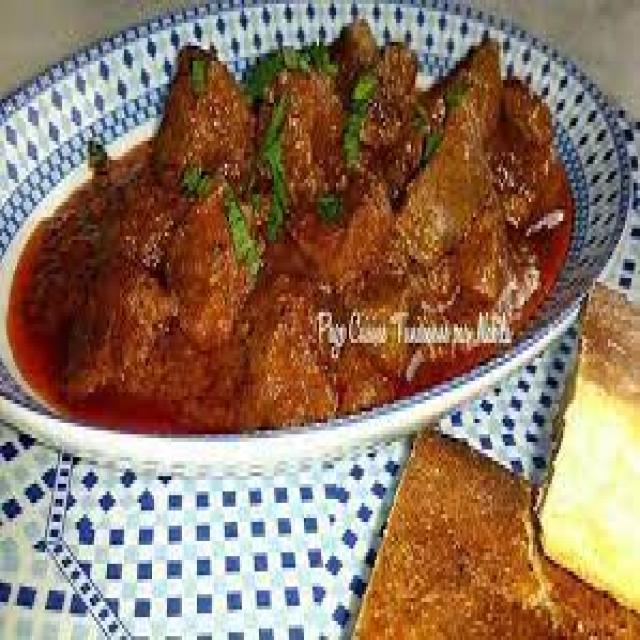kamouniya: (20, 46, 555, 412)
